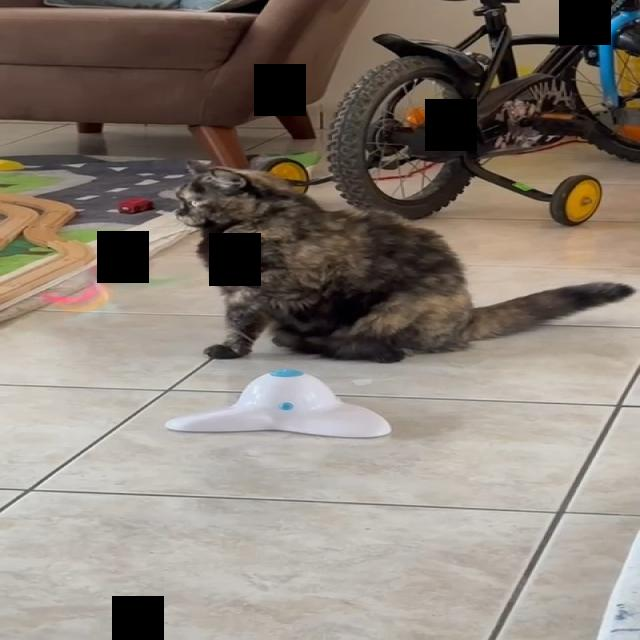authorized: (172, 158, 635, 364)
